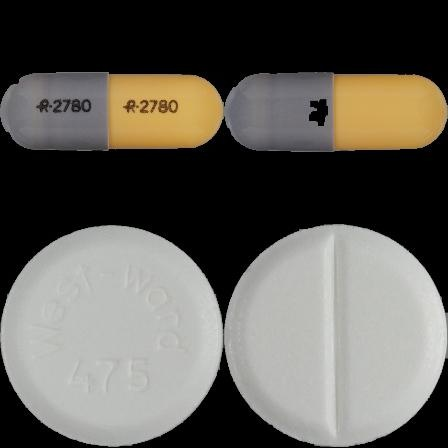60429-128: (0, 0, 224, 224)
